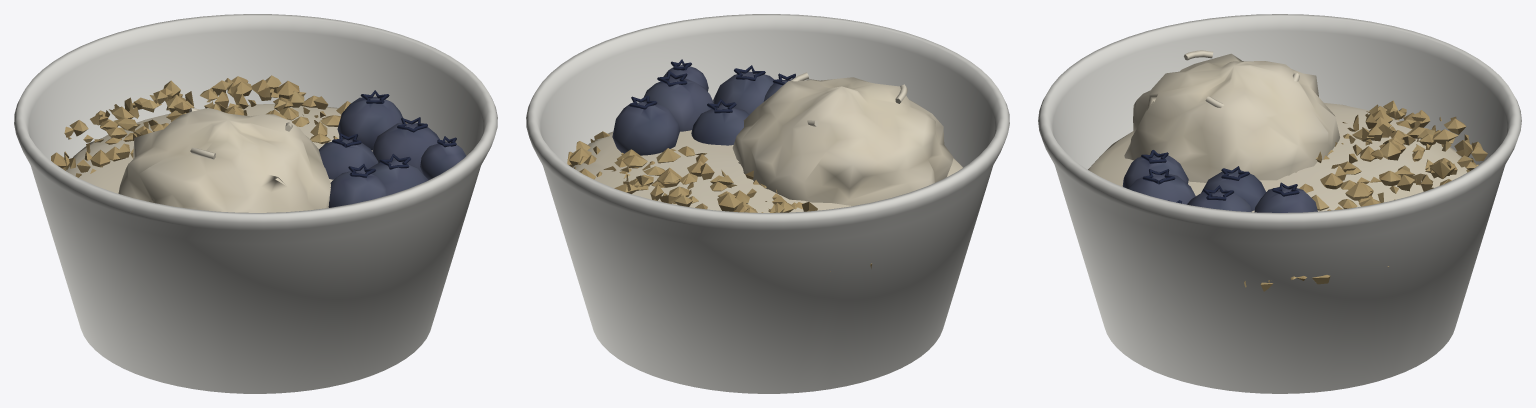
The model's file is blueberry.glb.
The picture shows the model from 3 angles, left to right: view 1: azimuth 30°, elevation 25°; view 2: azimuth 150°, elevation 25°; view 3: azimuth 270°, elevation 25°; orthographic projection.
Parts seen in each view (by area): view 1: G012_blueberry; view 2: G012_blueberry; view 3: G012_blueberry.
Part boxes in pixels (x1,y1,x2,y2): G012_blueberry: (14,14,497,393); G012_blueberry: (526,14,1009,393); G012_blueberry: (1038,14,1521,393).
Bounding box in the file's own units: 0.148 × 0.0773 × 0.148.
